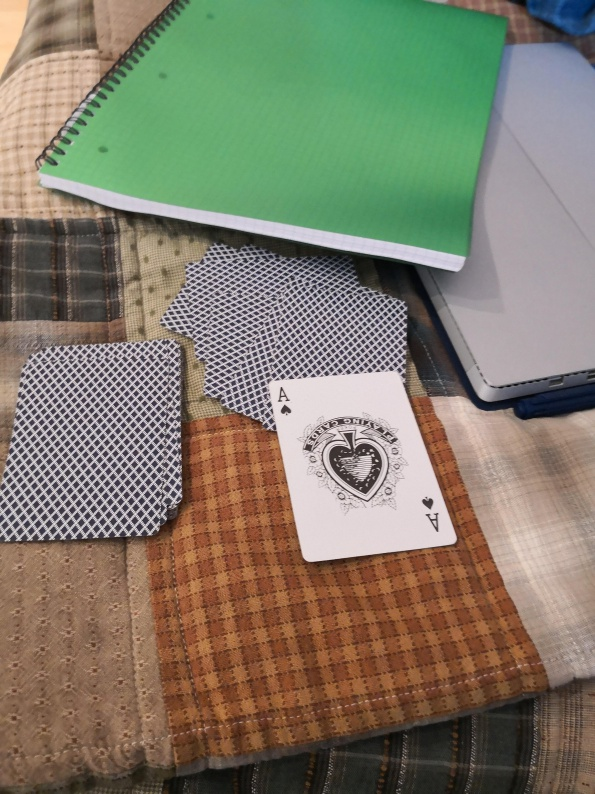ace: (265, 368, 459, 565)
